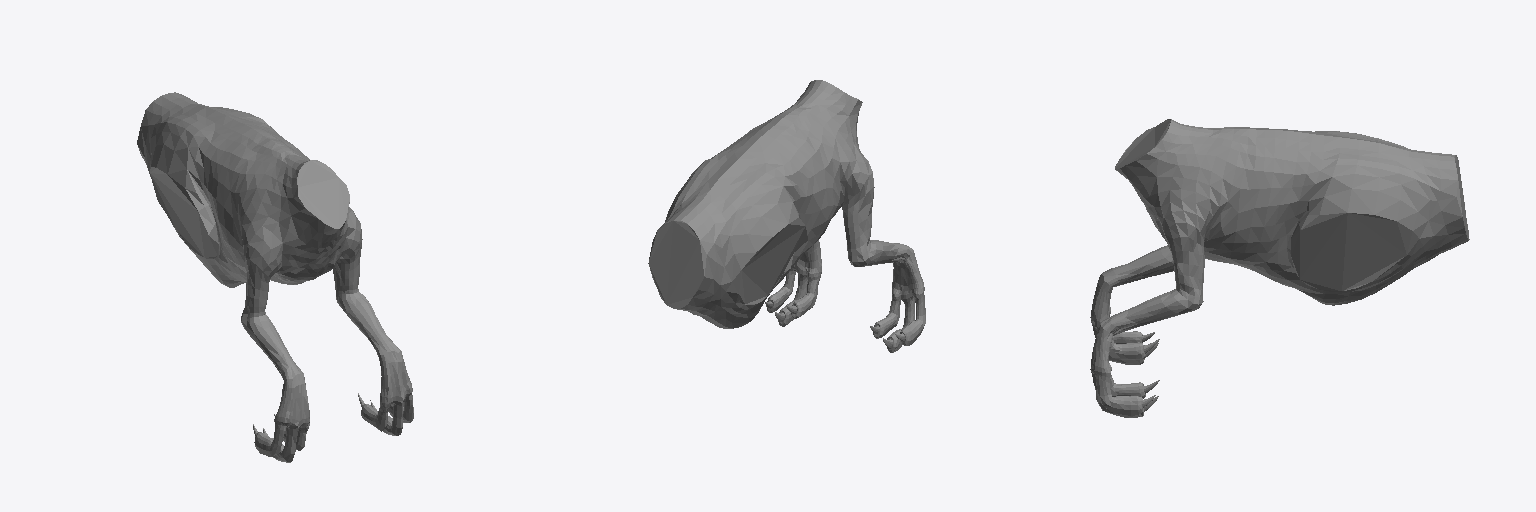
File: TorsoDino1.obj
3 views of the same model, side by side, from view 1: azimuth 30°, elevation 25°; view 2: azimuth 150°, elevation 25°; view 3: azimuth 270°, elevation 25° (orthographic).
Parts seen in each view (by area): view 1: Raptor0; view 2: Raptor0; view 3: Raptor0.
Boxes of the visible parts, box(x1,y1,x2,y2) form: Raptor0: box(137, 92, 413, 462); Raptor0: box(648, 80, 925, 352); Raptor0: box(1090, 119, 1469, 417).
Size of the model in its own units: 7.17 by 12.89 by 16.32.